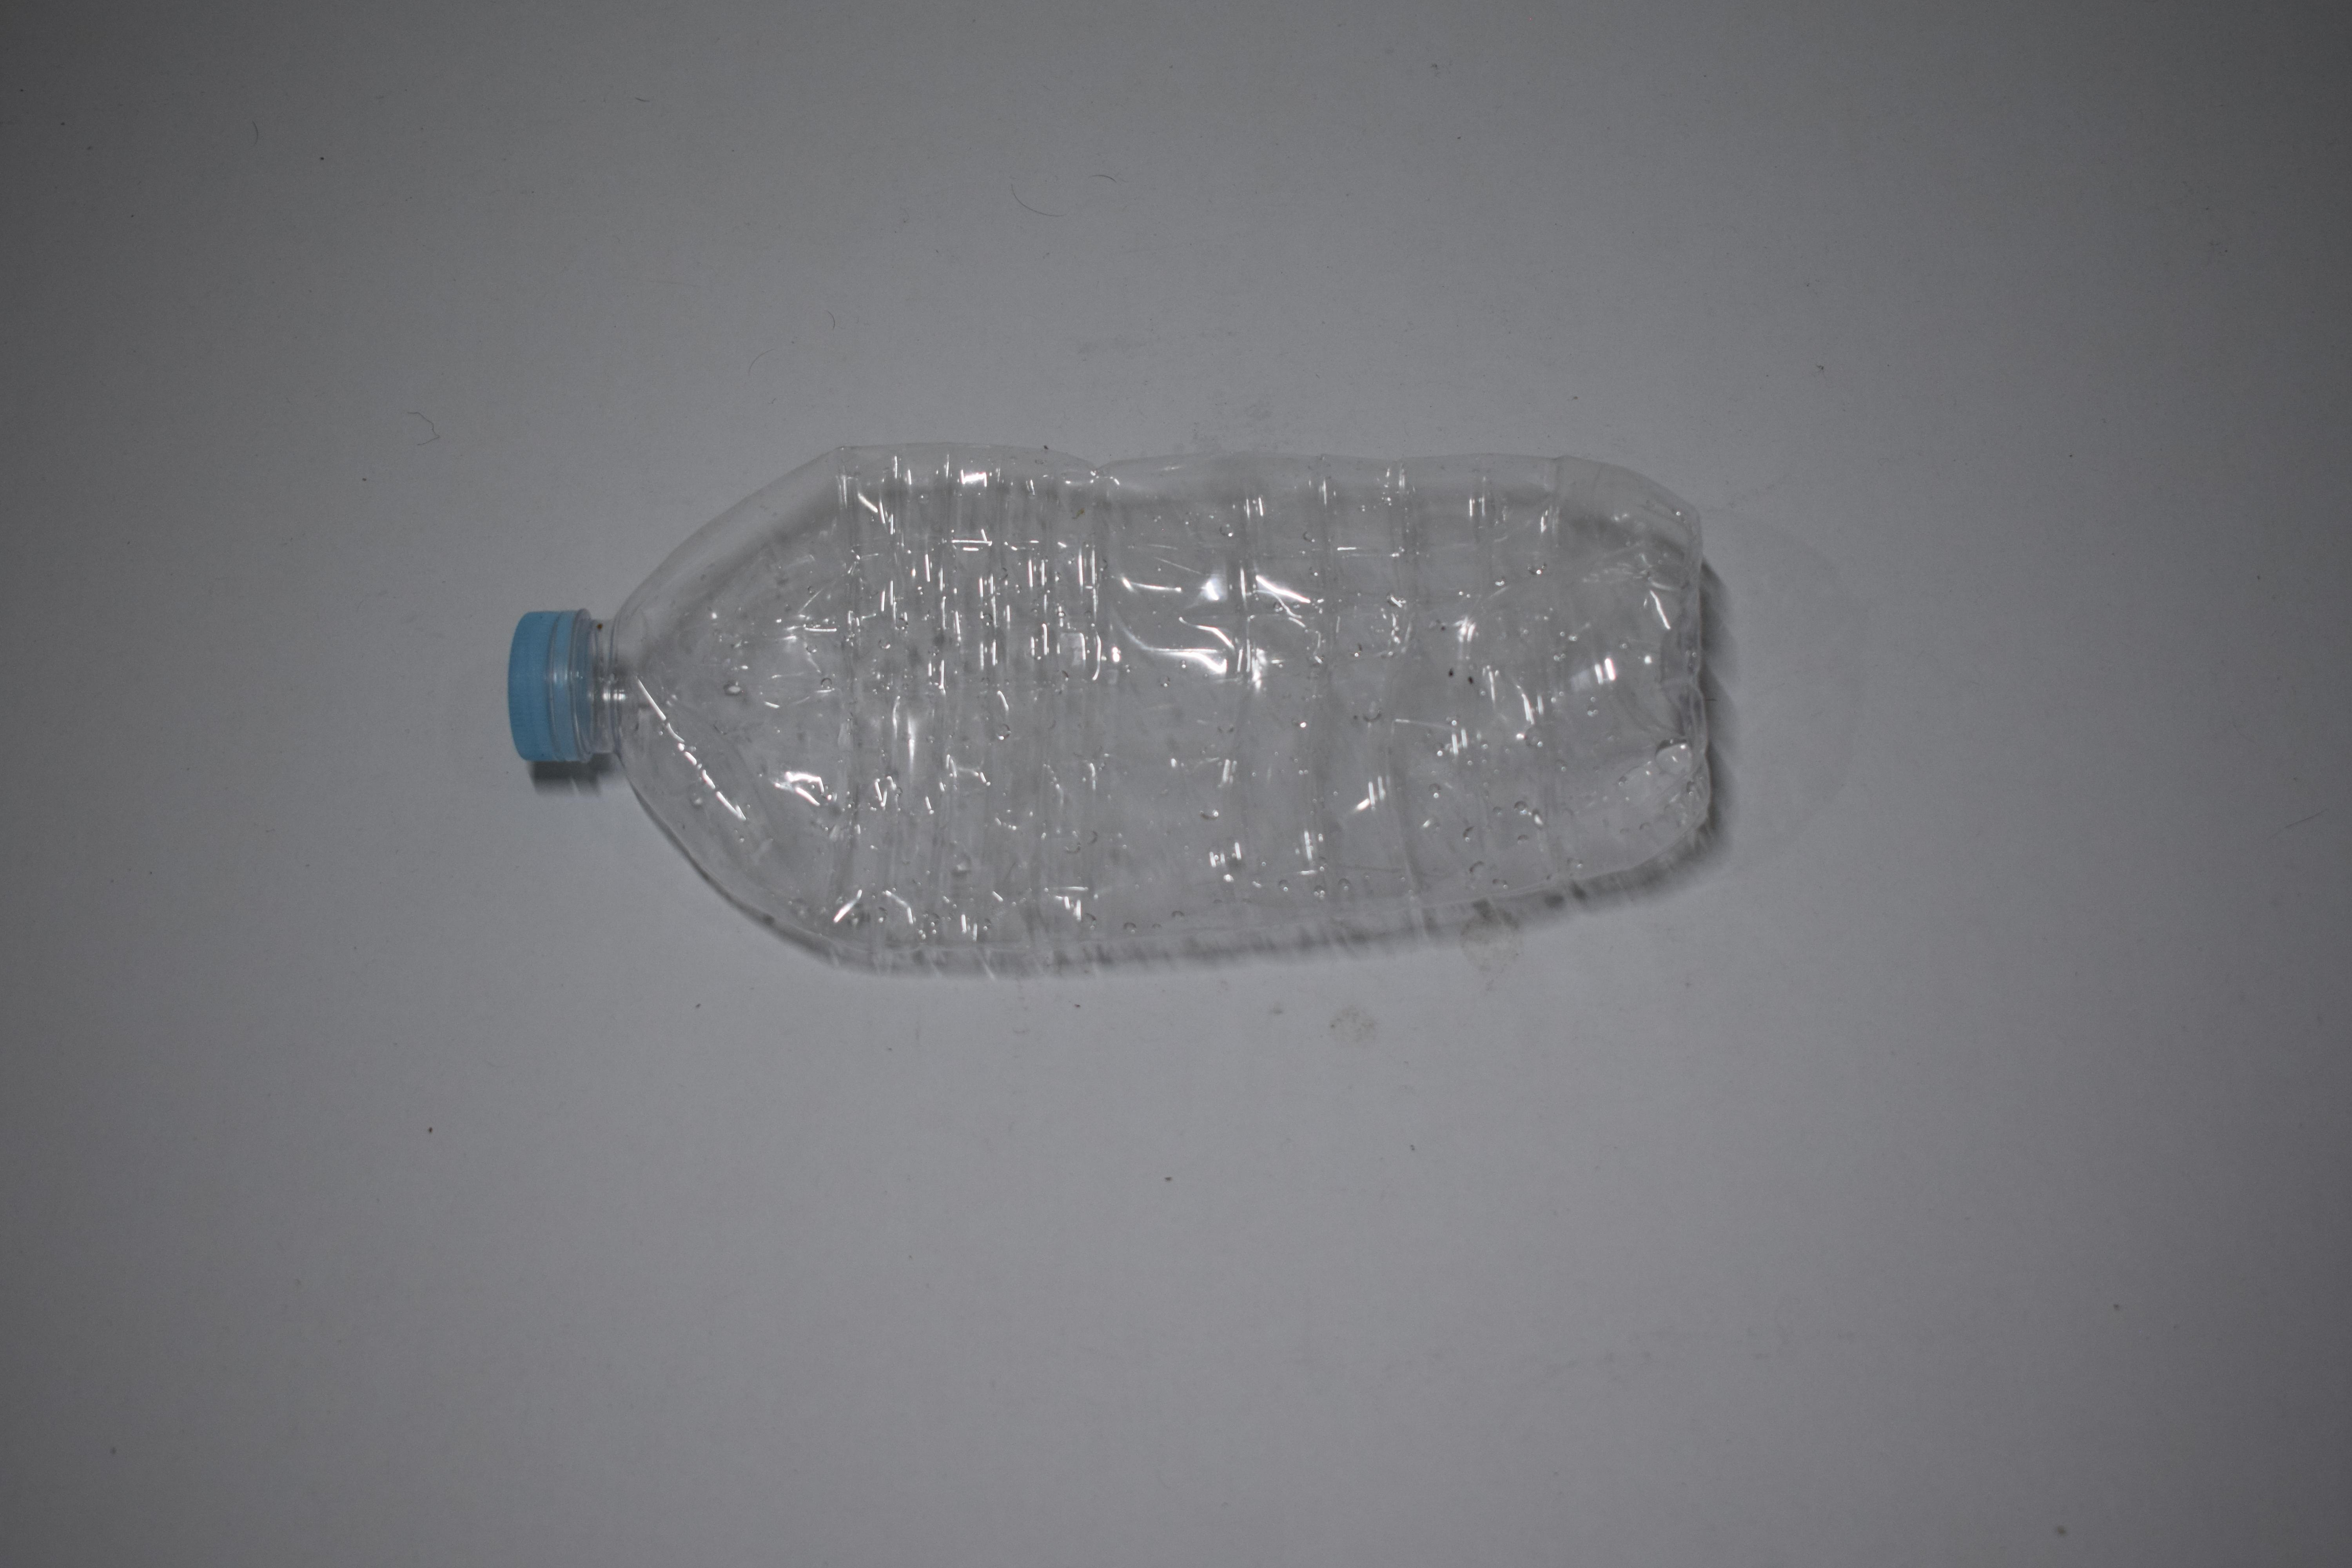bottle: (1078, 427, 1132, 971)
